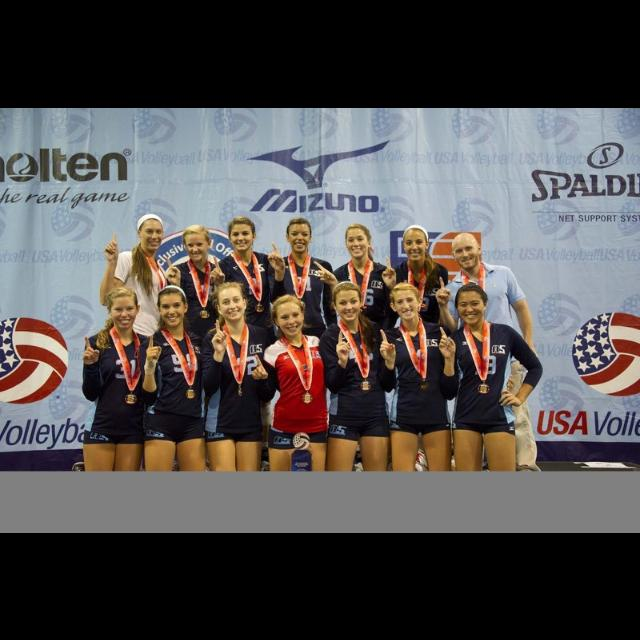head: (388, 282, 426, 322), (454, 284, 490, 326), (108, 286, 142, 330), (156, 286, 190, 328), (274, 294, 306, 338), (215, 281, 249, 321), (332, 282, 364, 322), (137, 212, 167, 252), (183, 224, 213, 262), (452, 232, 482, 270), (286, 218, 314, 255), (404, 224, 431, 262), (228, 218, 258, 252), (345, 224, 373, 258)
person: (433, 229, 545, 503), (313, 222, 402, 480), (97, 210, 177, 472), (208, 214, 288, 476), (265, 215, 339, 479), (380, 223, 452, 481), (164, 222, 236, 474)
